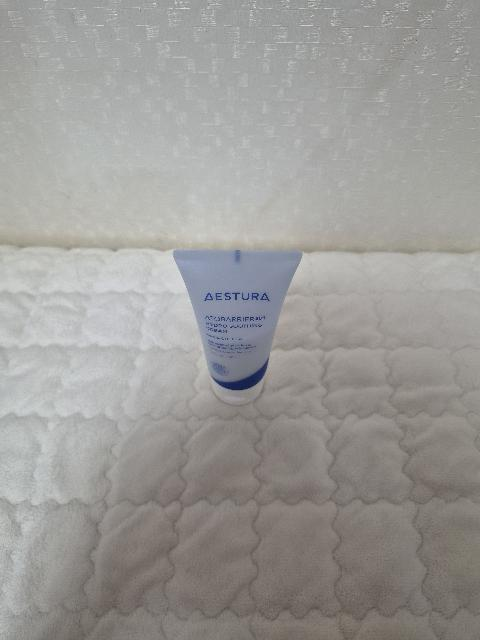handcream: (173, 249, 303, 405)
